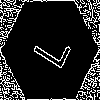L: (25, 25, 72, 71)
